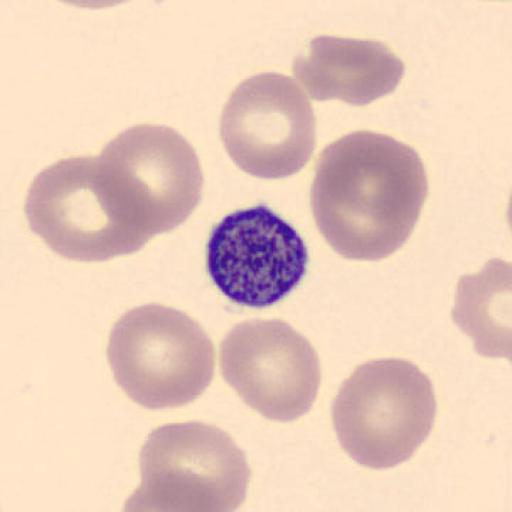Platelet: (202, 201, 314, 311)
RBC: (308, 128, 430, 264), (20, 152, 152, 265), (94, 121, 205, 237), (330, 355, 439, 473), (104, 300, 218, 412), (216, 314, 323, 424), (216, 69, 317, 182), (137, 417, 253, 512), (295, 33, 406, 108), (449, 255, 512, 361), (117, 475, 220, 512), (118, 481, 202, 512), (39, 0, 148, 11)
